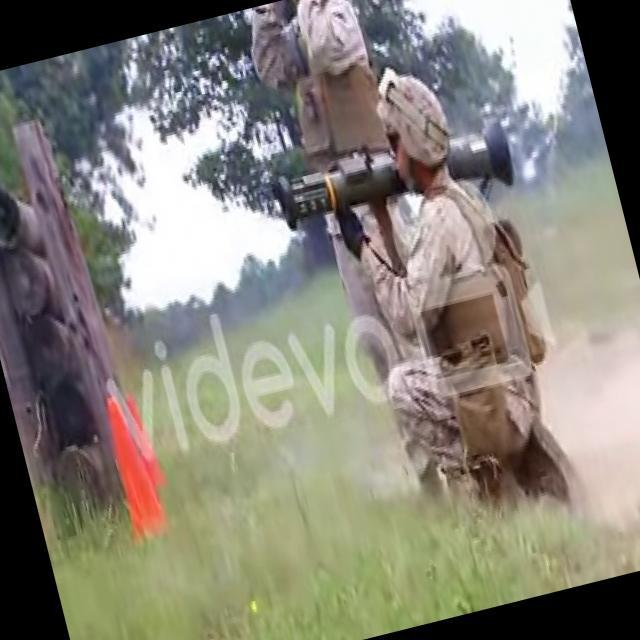rocket: (269, 108, 513, 236)
